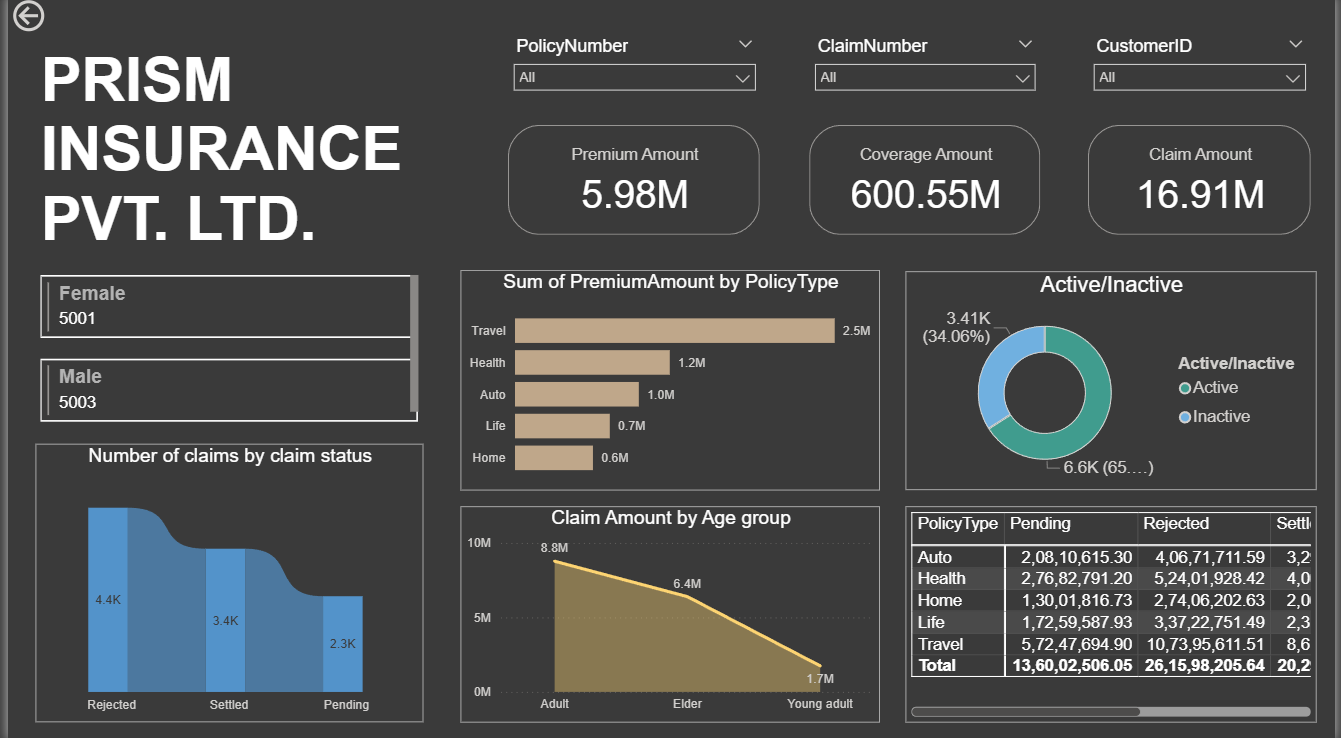

What the dashboard file says about the page in this screenshot:
{"tool":"powerbi","page":{"name":"Page 1","canvas":[1280,720],"ordinal":0},"visuals":[{"type":"slicer","fields":{"Values":["InsuranceData.PolicyNumber"]},"box":[477.5,34.3,253.9,65.9],"z":0},{"type":"slicer","fields":{"Values":["InsuranceData.ClaimNumber"]},"box":[768.4,34.3,233.3,65.9],"z":1000},{"type":"slicer","fields":{"Values":["InsuranceData.CustomerID"]},"box":[1037.4,34.3,225,65.9],"z":2000},{"type":"textbox","box":[26.1,43.9,374.6,236],"z":3000},{"type":"cardVisual","fields":{"Data":["Sum(InsuranceData.PremiumAmount)"]},"box":[477.5,120.8,253.9,116.6],"z":4000},{"type":"cardVisual","fields":{"Data":["Sum(InsuranceData.CoverageAmount)"]},"box":[768.4,120.8,233.3,116.6],"z":5000},{"type":"cardVisual","fields":{"Data":["Sum(InsuranceData.ClaimAmount)"]},"box":[1037.4,120.8,225,116.6],"z":6000},{"type":"multiRowCard","fields":{"Values":["InsuranceData.Gender","CountNonNull(InsuranceData.Gender)"]},"box":[26.1,264.8,374.6,156.4],"z":7000},{"type":"ribbonChart","title":"Number of claims by claim status","fields":{"Y":["CountNonNull(InsuranceData.ClaimStatus)"],"Category":["InsuranceData.ClaimStatus"]},"box":[26.1,433.6,374.6,269],"z":8000},{"type":"barChart","fields":{"Category":["InsuranceData.PolicyType"],"Y":["Sum(InsuranceData.PremiumAmount)"]},"box":[436.4,264.8,404.8,212.7],"z":9000},{"type":"lineChart","title":"Claim Amount by Age group","fields":{"Y":["Sum(InsuranceData.ClaimAmount)"],"Category":["InsuranceData.Age group"]},"box":[436.4,494,404.8,208.6],"z":10000},{"type":"donutChart","title":"Active/Inactive","fields":{"Category":["InsuranceData.Active/Inactive"],"Y":["CountNonNull(InsuranceData.Active/Inactive)"]},"box":[865.9,266.2,396.6,211.3],"z":11000},{"type":"pivotTable","fields":{"Values":["Sum(InsuranceData.CoverageAmount)"],"Rows":["InsuranceData.PolicyType"],"Columns":["InsuranceData.ClaimStatus"]},"box":[866,494,397,209],"z":12000},{"type":"actionButton","box":[0,0,100,40],"z":13000}]}

Visuals, with their boxes in screenshot pixels (x1, y1, x2, y2), scaled from the page's 1280x720 canvas onto the 1341x738 screenshot:
slicer - InsuranceData.PolicyNumber: 500:35:766:103
slicer - InsuranceData.ClaimNumber: 805:35:1049:103
slicer - InsuranceData.CustomerID: 1087:35:1323:103
textbox: 27:45:420:287
cardVisual - Sum(InsuranceData.PremiumAmount): 500:124:766:243
cardVisual - Sum(InsuranceData.CoverageAmount): 805:124:1049:243
cardVisual - Sum(InsuranceData.ClaimAmount): 1087:124:1323:243
multiRowCard - InsuranceData.Gender x CountNonNull(InsuranceData.Gender): 27:271:420:432
"Number of claims by claim status" ribbonChart: 27:444:420:720
barChart - InsuranceData.PolicyType x Sum(InsuranceData.PremiumAmount): 457:271:881:489
"Claim Amount by Age group" lineChart: 457:506:881:720
"Active/Inactive" donutChart: 907:273:1323:489
pivotTable - Sum(InsuranceData.CoverageAmount) x InsuranceData.PolicyType: 907:506:1323:721
actionButton: 0:0:105:41
